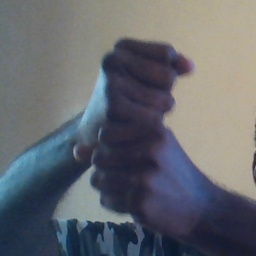G: (71, 27, 199, 218)
